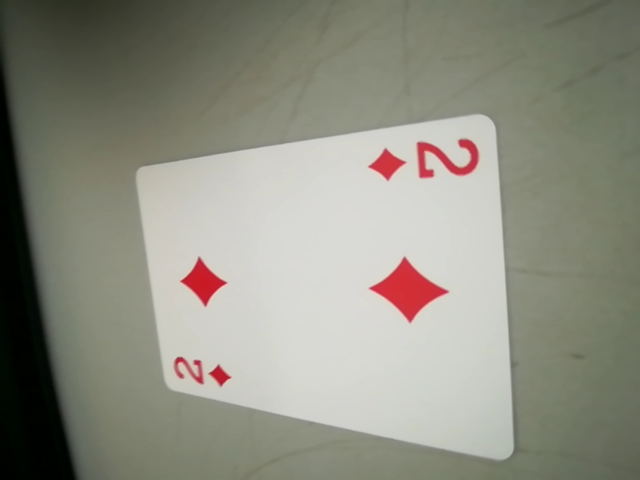fk 2: (365, 129, 485, 191), (167, 346, 239, 396)
